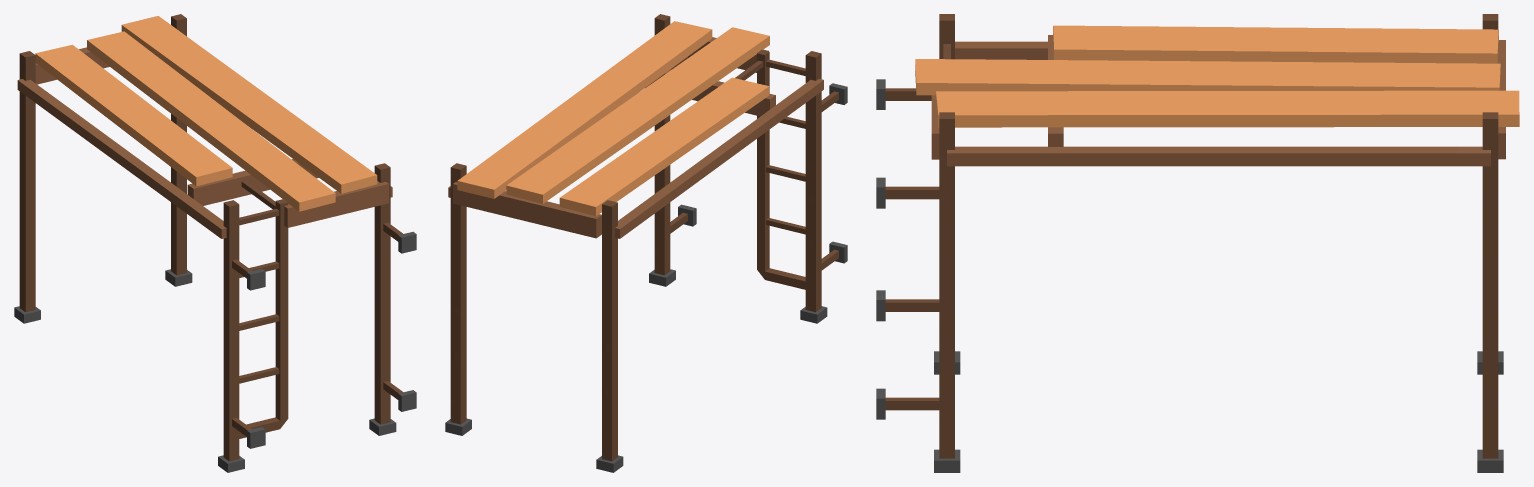
Rendered from Scaffolding.fbx.
The picture shows the model from 3 angles, left to right: view 1: azimuth 30°, elevation 25°; view 2: azimuth 150°, elevation 25°; view 3: azimuth 270°, elevation 25°; orthographic projection. The views are drawn at different scales.
Parts seen in each view (by area): view 1: Scaffolding_1B; view 2: Scaffolding_1B; view 3: Scaffolding_1B.
Boxes of the visible parts, x1,y1,x2,y2 form: Scaffolding_1B: (14,14,416,472); Scaffolding_1B: (445,14,847,472); Scaffolding_1B: (876,14,1519,472).
Bounding box in the file's own units: 5633 × 8284 × 13724.
